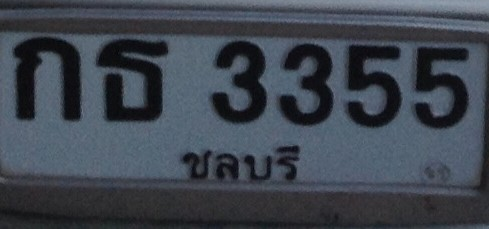txt01: (11, 34, 84, 122)
txt19: (92, 36, 171, 125)
